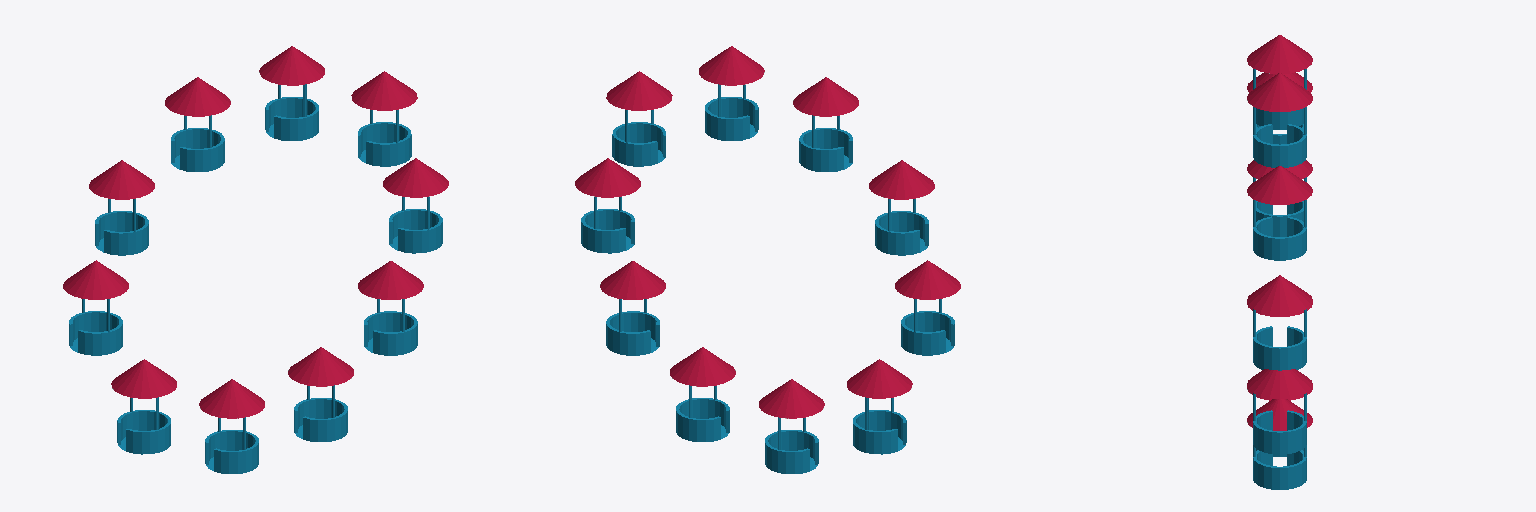
3 views of the same model, side by side, from view 1: azimuth 30°, elevation 25°; view 2: azimuth 150°, elevation 25°; view 3: azimuth 270°, elevation 25° (orthographic).
Parts seen in each view (by area): view 1: cabinejunta:pCylinder6; view 2: cabinejunta:pCylinder6; view 3: cabinejunta:pCylinder6.
Boxes of the visible parts, x1=… form: cabinejunta:pCylinder6: x1=63, y1=46, x2=448, y2=473; cabinejunta:pCylinder6: x1=575, y1=46, x2=960, y2=473; cabinejunta:pCylinder6: x1=1247, y1=35, x2=1312, y2=489.
Size of the model in its own units: 1.74 by 1.77 by 0.2662.
Materials: 1 (1 with a texture image).